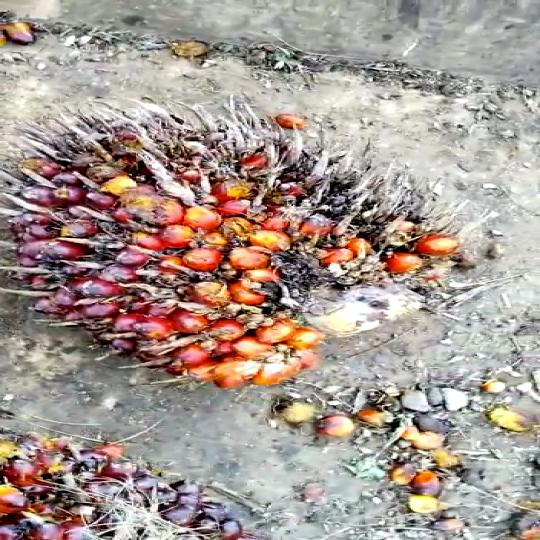masak: (0, 114, 500, 403)
